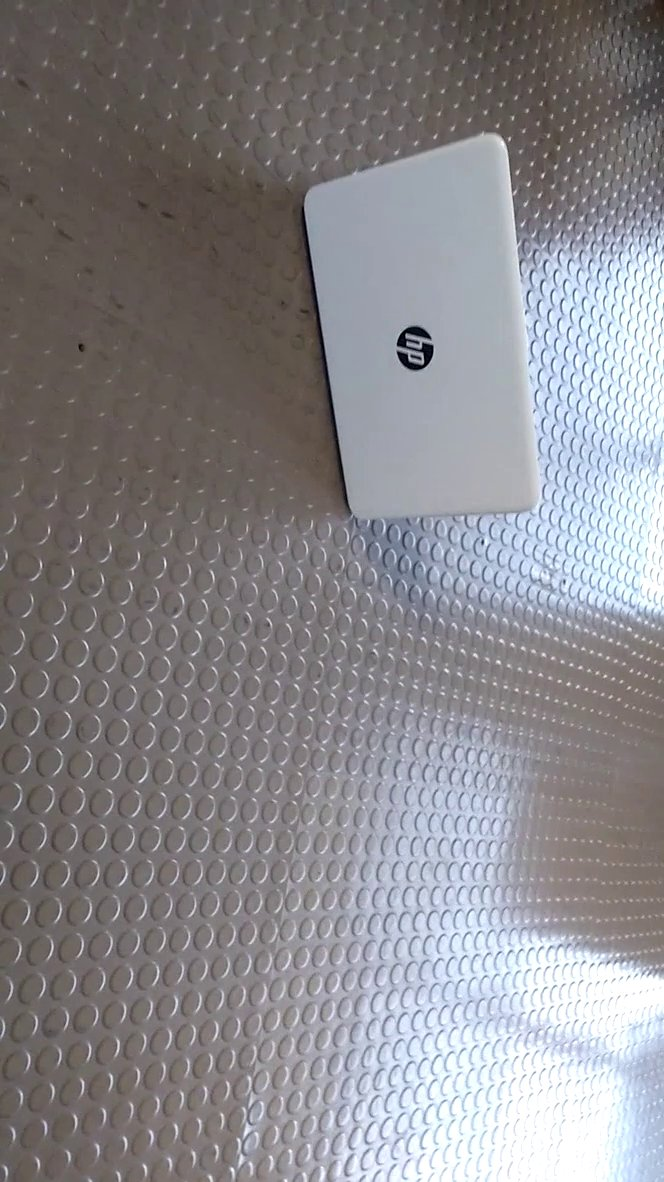laptop: (297, 123, 549, 536)
